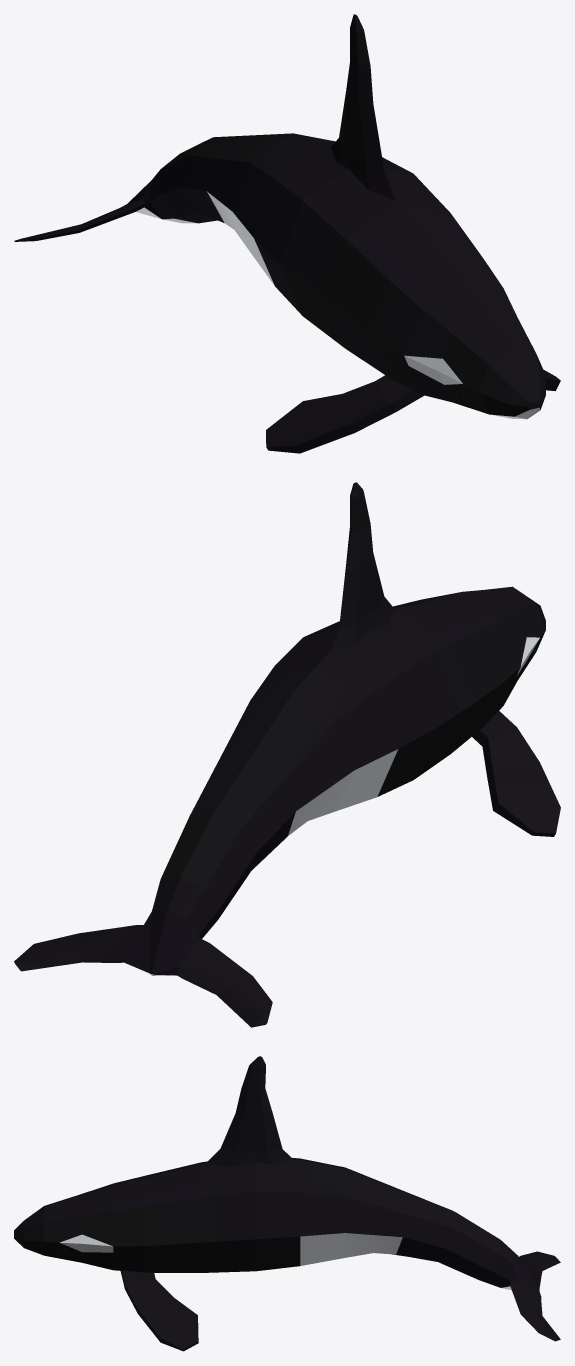
File: animals-killer-whale-135.glb
3 views of the same model, one above another, from view 1: azimuth 30°, elevation 25°; view 2: azimuth 150°, elevation 25°; view 3: azimuth 270°, elevation 25° (orthographic). The views are drawn at different scales.
Parts seen in each view (by area): view 1: Geo_Orca; view 2: Geo_Orca; view 3: Geo_Orca.
Part boxes in pixels (x1,y1,x2,y2): Geo_Orca: [14, 14, 560, 453]; Geo_Orca: [14, 482, 560, 1027]; Geo_Orca: [14, 1056, 560, 1351].
Size of the model in its own units: 235 by 278 by 559.
Materials: 1 (1 with a texture image).
